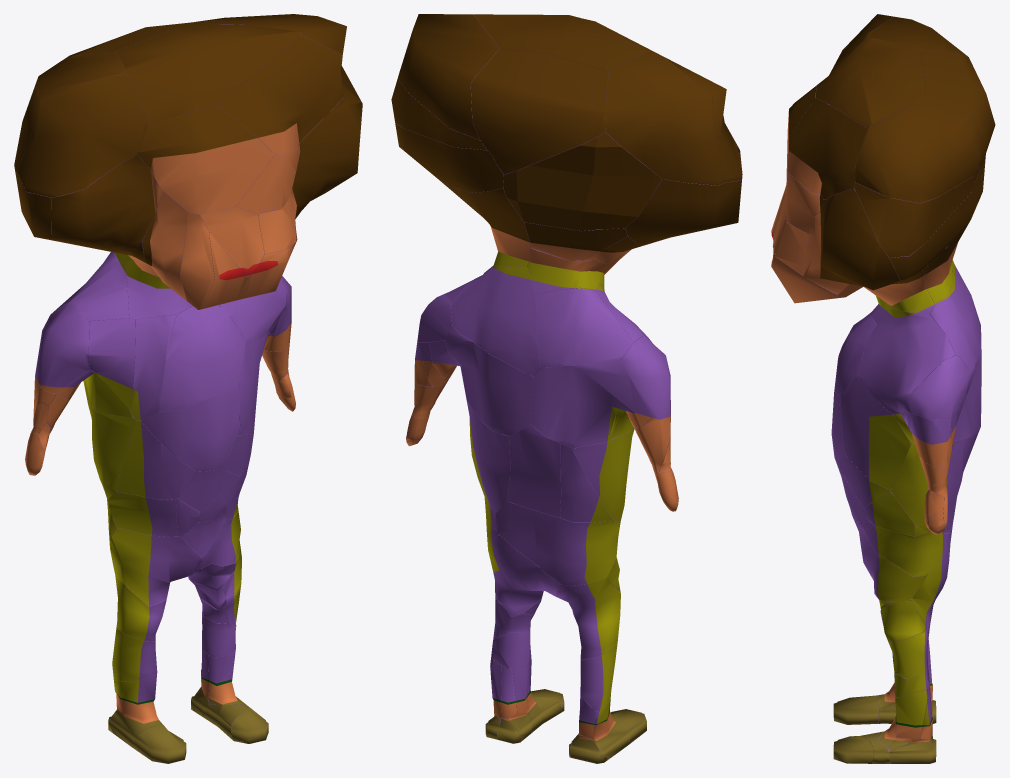
The model's file is Shards(Sadness).fbx.
3 renders of one model, left to right at view 1: azimuth 30°, elevation 25°; view 2: azimuth 150°, elevation 25°; view 3: azimuth 270°, elevation 25°, orthographic. The views are drawn at different scales.
Visible parts, largest first — view 1: Hero for anim_cell.013, Hero for anim_cell.094, Hero for anim_cell.021, Hero for anim_cell.001, Hero for anim_cell.020, Hero for anim_cell.047, Hero for anim_cell.033, Hero for anim_cell.066, Hero for anim_cell.038, Hero for anim_cell.054, Hero for anim_cell.091, Hero for anim_cell.056 (+36 smaller); view 2: Hero for anim_cell.087, Hero for anim_cell.031, Hero for anim_cell.062, Hero for anim_cell.040, Hero for anim_cell.075, Hero for anim_cell.017, Hero for anim_cell.029, Hero for anim_cell.008, Hero for anim_cell.094, Hero for anim_cell.052, Hero for anim_cell.084, Hero for anim_cell.041 (+28 smaller); view 3: Hero for anim_cell.040, Hero for anim_cell.094, Hero for anim_cell.033, Hero for anim_cell.055, Hero for anim_cell.001, Hero for anim_cell.032, Hero for anim_cell.088, Hero for anim_cell.087, Hero for anim_cell.002, Hero for anim_cell.048, Hero for anim_cell.017, Hero for anim_cell.099 (+29 smaller).
Boxes of the visible parts, bbox=[...] form: Hero for anim_cell.013: bbox=[17, 76, 147, 197]; Hero for anim_cell.094: bbox=[115, 24, 301, 124]; Hero for anim_cell.021: bbox=[138, 105, 274, 214]; Hero for anim_cell.001: bbox=[217, 36, 343, 154]; Hero for anim_cell.020: bbox=[51, 154, 164, 252]; Hero for anim_cell.047: bbox=[160, 305, 246, 412]; Hero for anim_cell.033: bbox=[288, 82, 362, 241]; Hero for anim_cell.066: bbox=[140, 381, 239, 471]; Hero for anim_cell.038: bbox=[111, 528, 201, 606]; Hero for anim_cell.054: bbox=[116, 420, 196, 499]; Hero for anim_cell.091: bbox=[35, 304, 89, 393]; Hero for anim_cell.056: bbox=[130, 314, 176, 420]; Hero for anim_cell.087: bbox=[470, 49, 608, 174]; Hero for anim_cell.031: bbox=[605, 50, 724, 185]; Hero for anim_cell.062: bbox=[503, 132, 661, 230]; Hero for anim_cell.040: bbox=[398, 14, 499, 139]; Hero for anim_cell.075: bbox=[530, 359, 652, 447]; Hero for anim_cell.017: bbox=[451, 265, 540, 376]; Hero for anim_cell.029: bbox=[495, 501, 619, 585]; Hero for anim_cell.008: bbox=[536, 288, 633, 367]; Hero for anim_cell.094: bbox=[473, 14, 650, 71]; Hero for anim_cell.052: bbox=[445, 326, 533, 436]; Hero for anim_cell.084: bbox=[625, 179, 741, 245]; Hero for anim_cell.041: bbox=[507, 424, 561, 517]; Hero for anim_cell.040: bbox=[855, 99, 985, 203]; Hero for anim_cell.094: bbox=[816, 37, 925, 128]; Hero for anim_cell.033: bbox=[803, 188, 902, 294]; Hero for anim_cell.055: bbox=[857, 306, 955, 414]; Hero for anim_cell.001: bbox=[787, 98, 867, 199]; Hero for anim_cell.032: bbox=[840, 378, 912, 489]; Hero for anim_cell.088: bbox=[854, 161, 981, 257]; Hero for anim_cell.087: bbox=[919, 49, 995, 175]; Hero for anim_cell.002: bbox=[864, 519, 948, 576]; Hero for anim_cell.048: bbox=[904, 355, 968, 419]; Hero for anim_cell.017: bbox=[930, 271, 981, 367]; Hero for anim_cell.099: bbox=[890, 167, 981, 280].
Size of the model in its own units: 395 by 782 by 235.
